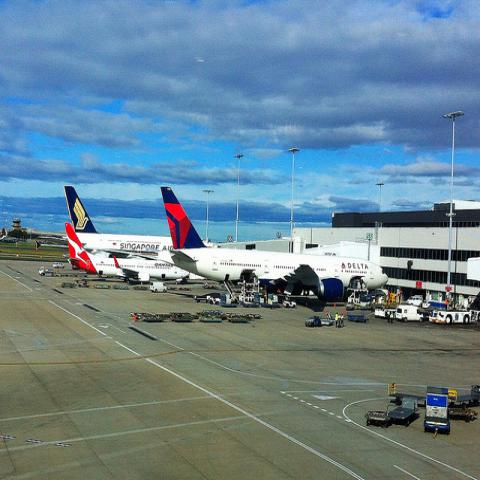car: (305, 315, 320, 328), (406, 296, 423, 306), (151, 282, 167, 291)
truck: (424, 394, 450, 434), (430, 309, 470, 323), (396, 305, 424, 322), (39, 265, 55, 277)
